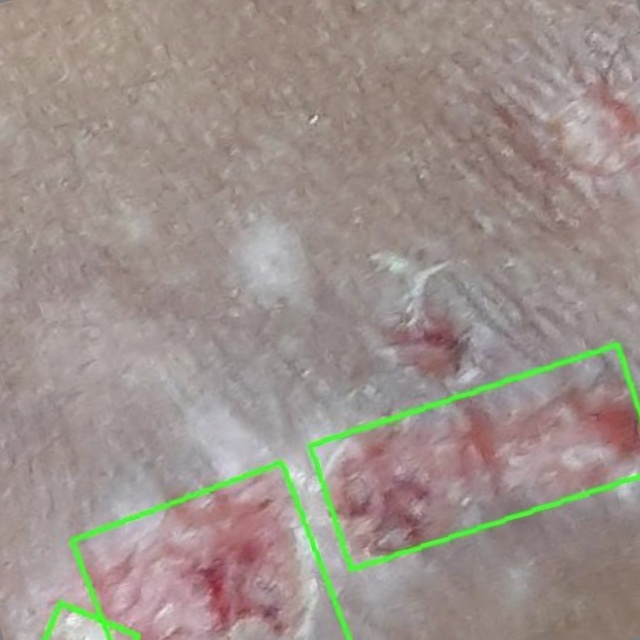Eczema: (309, 345, 639, 571), (72, 462, 348, 639)
